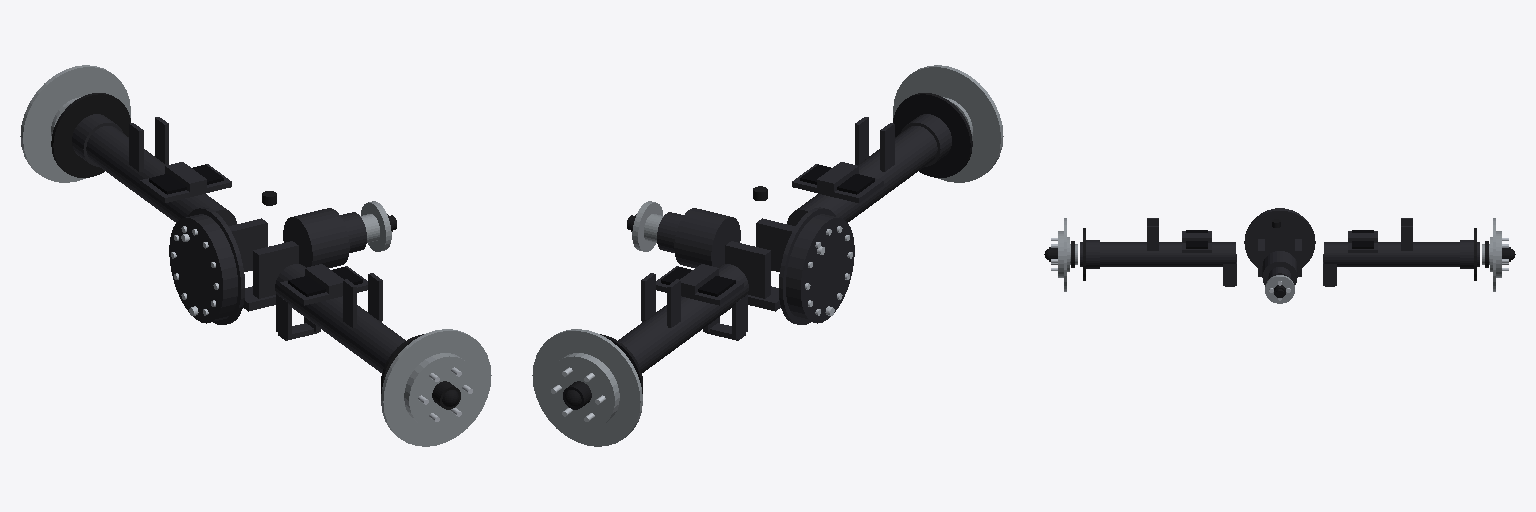
URDF robot description (car_axle_assembly):
<robot name="car_axle_assembly">
  <material name="cast_iron">
    <color rgba="0.2 0.2 0.22 1" />
    </material>
  <material name="machined_steel">
    <color rgba="0.58 0.6 0.62 1" />
    </material>
  <material name="zinc_hardware">
    <color rgba="0.73 0.75 0.78 1" />
    </material>
  <material name="rubber_isolator">
    <color rgba="0.09 0.09 0.1 1" />
    </material>
  <material name="black_oxide">
    <color rgba="0.14 0.14 0.15 1" />
    </material>
  <link name="axle_housing">
    <inertial>
      <mass value="92" />
      <inertia ixx="22.2333" ixy="0" ixz="0" iyy="3.51133" iyz="0" izz="23.5305" />
      </inertial>
    <visual>
      <geometry>
        <mesh filename="assets/meshes/differential_housing.obj" />
        </geometry>
      <material name="cast_iron">
        <color rgba="0.2 0.2 0.22 1" />
        </material>
      </visual>
    <visual>
      <origin xyz="0 -0.5 0" rpy="1.5708 0 0" />
      <geometry>
        <cylinder radius="0.05" length="0.64" />
        </geometry>
      <material name="cast_iron">
        <color rgba="0.2 0.2 0.22 1" />
        </material>
      </visual>
    <visual>
      <origin xyz="0 -0.77 0" rpy="1.5708 0 0" />
      <geometry>
        <cylinder radius="0.058" length="0.06" />
        </geometry>
      <material name="cast_iron">
        <color rgba="0.2 0.2 0.22 1" />
        </material>
      </visual>
    <visual>
      <origin xyz="0 -0.802 0" rpy="1.5708 0 0" />
      <geometry>
        <cylinder radius="0.11" length="0.01" />
        </geometry>
      <material name="black_oxide">
        <color rgba="0.14 0.14 0.15 1" />
        </material>
      </visual>
    <visual>
      <origin xyz="0 -0.34 0.057" rpy="0 0 0" />
      <geometry>
        <box size="0.19 0.12 0.014" />
        </geometry>
      <material name="cast_iron">
        <color rgba="0.2 0.2 0.22 1" />
        </material>
      </visual>
    <visual>
      <origin xyz="0 -0.34 0.068" rpy="0 0 0" />
      <geometry>
        <box size="0.16 0.09 0.008" />
        </geometry>
      <material name="rubber_isolator">
        <color rgba="0.09 0.09 0.1 1" />
        </material>
      </visual>
    <visual>
      <origin xyz="0 -0.34 0.074" rpy="0 0 0" />
      <geometry>
        <box size="0.05 0.12 0.025" />
        </geometry>
      <material name="cast_iron">
        <color rgba="0.2 0.2 0.22 1" />
        </material>
      </visual>
    <visual>
      <origin xyz="-0.036 -0.52 0.09" rpy="0 0 0" />
      <geometry>
        <box size="0.012 0.05 0.11" />
        </geometry>
      <material name="cast_iron">
        <color rgba="0.2 0.2 0.22 1" />
        </material>
      </visual>
    <visual>
      <origin xyz="0.036 -0.52 0.09" rpy="0 0 0" />
      <geometry>
        <box size="0.012 0.05 0.11" />
        </geometry>
      <material name="cast_iron">
        <color rgba="0.2 0.2 0.22 1" />
        </material>
      </visual>
    <visual>
      <origin xyz="-0.04 -0.205 -0.07" rpy="0 0 0" />
      <geometry>
        <box size="0.012 0.06 0.1" />
        </geometry>
      <material name="cast_iron">
        <color rgba="0.2 0.2 0.22 1" />
        </material>
      </visual>
    <visual>
      <origin xyz="0.04 -0.205 -0.07" rpy="0 0 0" />
      <geometry>
        <box size="0.012 0.06 0.1" />
        </geometry>
      <material name="cast_iron">
        <color rgba="0.2 0.2 0.22 1" />
        </material>
      </visual>
    <visual>
      <origin xyz="0 -0.205 -0.12" rpy="0 0 0" />
      <geometry>
        <box size="0.092 0.04 0.014" />
        </geometry>
      <material name="cast_iron">
        <color rgba="0.2 0.2 0.22 1" />
        </material>
      </visual>
    <visual>
      <origin xyz="0 0.5 0" rpy="1.5708 0 0" />
      <geometry>
        <cylinder radius="0.05" length="0.64" />
        </geometry>
      <material name="cast_iron">
        <color rgba="0.2 0.2 0.22 1" />
        </material>
      </visual>
    <visual>
      <origin xyz="0 0.77 0" rpy="1.5708 0 0" />
      <geometry>
        <cylinder radius="0.058" length="0.06" />
        </geometry>
      <material name="cast_iron">
        <color rgba="0.2 0.2 0.22 1" />
        </material>
      </visual>
    <visual>
      <origin xyz="0 0.802 0" rpy="1.5708 0 0" />
      <geometry>
        <cylinder radius="0.11" length="0.01" />
        </geometry>
      <material name="black_oxide">
        <color rgba="0.14 0.14 0.15 1" />
        </material>
      </visual>
    <visual>
      <origin xyz="0 0.34 0.057" rpy="0 0 0" />
      <geometry>
        <box size="0.19 0.12 0.014" />
        </geometry>
      <material name="cast_iron">
        <color rgba="0.2 0.2 0.22 1" />
        </material>
      </visual>
    <visual>
      <origin xyz="0 0.34 0.068" rpy="0 0 0" />
      <geometry>
        <box size="0.16 0.09 0.008" />
        </geometry>
      <material name="rubber_isolator">
        <color rgba="0.09 0.09 0.1 1" />
        </material>
      </visual>
    <visual>
      <origin xyz="0 0.34 0.074" rpy="0 0 0" />
      <geometry>
        <box size="0.05 0.12 0.025" />
        </geometry>
      <material name="cast_iron">
        <color rgba="0.2 0.2 0.22 1" />
        </material>
      </visual>
    <visual>
      <origin xyz="-0.036 0.52 0.09" rpy="0 0 0" />
      <geometry>
        <box size="0.012 0.05 0.11" />
        </geometry>
      <material name="cast_iron">
        <color rgba="0.2 0.2 0.22 1" />
        </material>
      </visual>
    <visual>
      <origin xyz="0.036 0.52 0.09" rpy="0 0 0" />
      <geometry>
        <box size="0.012 0.05 0.11" />
        </geometry>
      <material name="cast_iron">
        <color rgba="0.2 0.2 0.22 1" />
        </material>
      </visual>
    <visual>
      <origin xyz="-0.04 0.205 -0.07" rpy="0 0 0" />
      <geometry>
        <box size="0.012 0.06 0.1" />
        </geometry>
      <material name="cast_iron">
        <color rgba="0.2 0.2 0.22 1" />
        </material>
      </visual>
    <visual>
      <origin xyz="0.04 0.205 -0.07" rpy="0 0 0" />
      <geometry>
        <box size="0.012 0.06 0.1" />
        </geometry>
      <material name="cast_iron">
        <color rgba="0.2 0.2 0.22 1" />
        </material>
      </visual>
    <visual>
      <origin xyz="0 0.205 -0.12" rpy="0 0 0" />
      <geometry>
        <box size="0.092 0.04 0.014" />
        </geometry>
      <material name="cast_iron">
        <color rgba="0.2 0.2 0.22 1" />
        </material>
      </visual>
    <visual>
      <origin xyz="-0.145 0 0" rpy="0 1.5708 0" />
      <geometry>
        <cylinder radius="0.132" length="0.046" />
        </geometry>
      <material name="cast_iron">
        <color rgba="0.2 0.2 0.22 1" />
        </material>
      </visual>
    <visual>
      <origin xyz="-0.12 0 0" rpy="0 1.5708 0" />
      <geometry>
        <cylinder radius="0.146" length="0.012" />
        </geometry>
      <material name="cast_iron">
        <color rgba="0.2 0.2 0.22 1" />
        </material>
      </visual>
    <visual>
      <origin xyz="-0.168 0.104 0" rpy="0 1.5708 0" />
      <geometry>
        <cylinder radius="0.008" length="0.014" />
        </geometry>
      <material name="zinc_hardware">
        <color rgba="0.73 0.75 0.78 1" />
        </material>
      </visual>
    <visual>
      <origin xyz="-0.168 0.0900666 0.052" rpy="0 1.5708 0" />
      <geometry>
        <cylinder radius="0.008" length="0.014" />
        </geometry>
      <material name="zinc_hardware">
        <color rgba="0.73 0.75 0.78 1" />
        </material>
      </visual>
    <visual>
      <origin xyz="-0.168 0.052 0.0900666" rpy="0 1.5708 0" />
      <geometry>
        <cylinder radius="0.008" length="0.014" />
        </geometry>
      <material name="zinc_hardware">
        <color rgba="0.73 0.75 0.78 1" />
        </material>
      </visual>
    <visual>
      <origin xyz="-0.168 6.36816e-18 0.104" rpy="0 1.5708 0" />
      <geometry>
        <cylinder radius="0.008" length="0.014" />
        </geometry>
      <material name="zinc_hardware">
        <color rgba="0.73 0.75 0.78 1" />
        </material>
      </visual>
    <visual>
      <origin xyz="-0.168 -0.052 0.0900666" rpy="0 1.5708 0" />
      <geometry>
        <cylinder radius="0.008" length="0.014" />
        </geometry>
      <material name="zinc_hardware">
        <color rgba="0.73 0.75 0.78 1" />
        </material>
      </visual>
    <visual>
      <origin xyz="-0.168 -0.0900666 0.052" rpy="0 1.5708 0" />
      <geometry>
        <cylinder radius="0.008" length="0.014" />
        </geometry>
      <material name="zinc_hardware">
        <color rgba="0.73 0.75 0.78 1" />
        </material>
      </visual>
    <visual>
      <origin xyz="-0.168 -0.104 1.27363e-17" rpy="0 1.5708 0" />
      <geometry>
        <cylinder radius="0.008" length="0.014" />
        </geometry>
      <material name="zinc_hardware">
        <color rgba="0.73 0.75 0.78 1" />
        </material>
      </visual>
    <visual>
      <origin xyz="-0.168 -0.0900666 -0.052" rpy="0 1.5708 0" />
      <geometry>
        <cylinder radius="0.008" length="0.014" />
        </geometry>
      <material name="zinc_hardware">
        <color rgba="0.73 0.75 0.78 1" />
        </material>
      </visual>
    <visual>
      <origin xyz="-0.168 -0.052 -0.0900666" rpy="0 1.5708 0" />
      <geometry>
        <cylinder radius="0.008" length="0.014" />
        </geometry>
      <material name="zinc_hardware">
        <color rgba="0.73 0.75 0.78 1" />
        </material>
      </visual>
    <visual>
      <origin xyz="-0.168 -1.91045e-17 -0.104" rpy="0 1.5708 0" />
      <geometry>
        <cylinder radius="0.008" length="0.014" />
        </geometry>
      <material name="zinc_hardware">
        <color rgba="0.73 0.75 0.78 1" />
        </material>
      </visual>
    <visual>
      <origin xyz="-0.168 0.052 -0.0900666" rpy="0 1.5708 0" />
      <geometry>
        <cylinder radius="0.008" length="0.014" />
        </geometry>
      <material name="zinc_hardware">
        <color rgba="0.73 0.75 0.78 1" />
        </material>
      </visual>
    <visual>
      <origin xyz="-0.168 0.0900666 -0.052" rpy="0 1.5708 0" />
      <geometry>
        <cylinder radius="0.008" length="0.014" />
        </geometry>
      <material name="zinc_hardware">
        <color rgba="0.73 0.75 0.78 1" />
        </material>
      </visual>
    <visual>
      <origin xyz="0.17 0 0" rpy="0 1.5708 0" />
      <geometry>
        <cylinder radius="0.072" length="0.104" />
        </geometry>
      <material name="cast_iron">
        <color rgba="0.2 0.2 0.22 1" />
        </material>
      </visual>
    <visual>
      <origin xyz="0.245 0 0" rpy="0 1.5708 0" />
      <geometry>
        <cylinder radius="0.048" length="0.08" />
        </geometry>
      <material name="cast_iron">
        <color rgba="0.2 0.2 0.22 1" />
        </material>
      </visual>
    <visual>
      <origin xyz="0.012 -0.075 -0.01" rpy="0 0 0" />
      <geometry>
        <box size="0.112 0.03 0.118" />
        </geometry>
      <material name="cast_iron">
        <color rgba="0.2 0.2 0.22 1" />
        </material>
      </visual>
    <visual>
      <origin xyz="0.012 0.075 -0.01" rpy="0 0 0" />
      <geometry>
        <box size="0.112 0.03 0.118" />
        </geometry>
      <material name="cast_iron">
        <color rgba="0.2 0.2 0.22 1" />
        </material>
      </visual>
    <visual>
      <origin xyz="0.02 0 -0.112" rpy="0 0 0" />
      <geometry>
        <box size="0.128 0.08 0.022" />
        </geometry>
      <material name="cast_iron">
        <color rgba="0.2 0.2 0.22 1" />
        </material>
      </visual>
    <visual>
      <origin xyz="0.03 -0.015 0.154" rpy="0 0 0" />
      <geometry>
        <cylinder radius="0.018" length="0.024" />
        </geometry>
      <material name="black_oxide">
        <color rgba="0.14 0.14 0.15 1" />
        </material>
      </visual>
    <visual>
      <origin xyz="-0.172 0.042 0.072" rpy="0 1.5708 0" />
      <geometry>
        <cylinder radius="0.01" length="0.016" />
        </geometry>
      <material name="zinc_hardware">
        <color rgba="0.73 0.75 0.78 1" />
        </material>
      </visual>
    <visual>
      <origin xyz="-0.172 0 -0.108" rpy="0 1.5708 0" />
      <geometry>
        <cylinder radius="0.011" length="0.018" />
        </geometry>
      <material name="zinc_hardware">
        <color rgba="0.73 0.75 0.78 1" />
        </material>
      </visual>
    </link>
  <link name="left_hub">
    <inertial>
      <origin xyz="0 -0.072 0" rpy="0 0 0" />
      <mass value="14.5" />
      <inertia ixx="0.147417" ixy="0" ixz="0" iyy="0.247467" iyz="0" izz="0.147417" />
      </inertial>
    <visual>
      <origin xyz="0 -0.029 0" rpy="1.5708 0 0" />
      <geometry>
        <cylinder radius="0.042" length="0.058" />
        </geometry>
      <material name="machined_steel">
        <color rgba="0.58 0.6 0.62 1" />
        </material>
      </visual>
    <visual>
      <origin xyz="0 -0.022 0" rpy="1.5708 0 0" />
      <geometry>
        <cylinder radius="0.055" length="0.018" />
        </geometry>
      <material name="black_oxide">
        <color rgba="0.14 0.14 0.15 1" />
        </material>
      </visual>
    <visual>
      <origin xyz="0 -0.05 0" rpy="1.5708 0 0" />
      <geometry>
        <cylinder radius="0.152" length="0.012" />
        </geometry>
      <material name="machined_steel">
        <color rgba="0.58 0.6 0.62 1" />
        </material>
      </visual>
    <visual>
      <origin xyz="0 -0.05 0" rpy="1.5708 0 0" />
      <geometry>
        <cylinder radius="0.073" length="0.034" />
        </geometry>
      <material name="machined_steel">
        <color rgba="0.58 0.6 0.62 1" />
        </material>
      </visual>
    <visual>
      <origin xyz="0 -0.07 0" rpy="1.5708 0 0" />
      <geometry>
        <cylinder radius="0.095" length="0.024" />
        </geometry>
      <material name="machined_steel">
        <color rgba="0.58 0.6 0.62 1" />
        </material>
      </visual>
    <visual>
      <origin xyz="0 -0.1 0" rpy="1.5708 0 0" />
      <geometry>
        <cylinder radius="0.03" length="0.04" />
        </geometry>
      <material name="black_oxide">
        <color rgba="0.14 0.14 0.15 1" />
        </material>
      </visual>
    <visual>
      <origin xyz="0 -0.114 0" rpy="0 0 0" />
      <geometry>
        <sphere radius="0.024" />
        </geometry>
      <material name="black_oxide">
        <color rgba="0.14 0.14 0.15 1" />
        </material>
      </visual>
    <visual>
      <origin xyz="0.062 -0.095 0" rpy="1.5708 0 0" />
      <geometry>
        <cylinder radius="0.007" length="0.03" />
        </geometry>
      <material name="zinc_hardware">
        <color rgba="0.73 0.75 0.78 1" />
        </material>
      </visual>
    <visual>
      <origin xyz="0.031 -0.095 0.0536936" rpy="1.5708 0 0" />
      <geometry>
        <cylinder radius="0.007" length="0.03" />
        </geometry>
      <material name="zinc_hardware">
        <color rgba="0.73 0.75 0.78 1" />
        </material>
      </visual>
    <visual>
      <origin xyz="-0.031 -0.095 0.0536936" rpy="1.5708 0 0" />
      <geometry>
        <cylinder radius="0.007" length="0.03" />
        </geometry>
      <material name="zinc_hardware">
        <color rgba="0.73 0.75 0.78 1" />
        </material>
      </visual>
    <visual>
      <origin xyz="-0.062 -0.095 7.59281e-18" rpy="1.5708 0 0" />
      <geometry>
        <cylinder radius="0.007" length="0.03" />
        </geometry>
      <material name="zinc_hardware">
        <color rgba="0.73 0.75 0.78 1" />
        </material>
      </visual>
    <visual>
      <origin xyz="-0.031 -0.095 -0.0536936" rpy="1.5708 0 0" />
      <geometry>
        <cylinder radius="0.007" length="0.03" />
        </geometry>
      <material name="zinc_hardware">
        <color rgba="0.73 0.75 0.78 1" />
        </material>
      </visual>
    <visual>
      <origin xyz="0.031 -0.095 -0.0536936" rpy="1.5708 0 0" />
      <geometry>
        <cylinder radius="0.007" length="0.03" />
        </geometry>
      <material name="zinc_hardware">
        <color rgba="0.73 0.75 0.78 1" />
        </material>
      </visual>
    </link>
  <link name="right_hub">
    <inertial>
      <origin xyz="0 0.072 0" rpy="0 0 0" />
      <mass value="14.5" />
      <inertia ixx="0.147417" ixy="0" ixz="0" iyy="0.247467" iyz="0" izz="0.147417" />
      </inertial>
    <visual>
      <origin xyz="0 0.029 0" rpy="1.5708 0 0" />
      <geometry>
        <cylinder radius="0.042" length="0.058" />
        </geometry>
      <material name="machined_steel">
        <color rgba="0.58 0.6 0.62 1" />
        </material>
      </visual>
    <visual>
      <origin xyz="0 0.022 0" rpy="1.5708 0 0" />
      <geometry>
        <cylinder radius="0.055" length="0.018" />
        </geometry>
      <material name="black_oxide">
        <color rgba="0.14 0.14 0.15 1" />
        </material>
      </visual>
    <visual>
      <origin xyz="0 0.05 0" rpy="1.5708 0 0" />
      <geometry>
        <cylinder radius="0.152" length="0.012" />
        </geometry>
      <material name="machined_steel">
        <color rgba="0.58 0.6 0.62 1" />
        </material>
      </visual>
    <visual>
      <origin xyz="0 0.05 0" rpy="1.5708 0 0" />
      <geometry>
        <cylinder radius="0.073" length="0.034" />
        </geometry>
      <material name="machined_steel">
        <color rgba="0.58 0.6 0.62 1" />
        </material>
      </visual>
    <visual>
      <origin xyz="0 0.07 0" rpy="1.5708 0 0" />
      <geometry>
        <cylinder radius="0.095" length="0.024" />
        </geometry>
      <material name="machined_steel">
        <color rgba="0.58 0.6 0.62 1" />
        </material>
      </visual>
    <visual>
      <origin xyz="0 0.1 0" rpy="1.5708 0 0" />
      <geometry>
        <cylinder radius="0.03" length="0.04" />
        </geometry>
      <material name="black_oxide">
        <color rgba="0.14 0.14 0.15 1" />
        </material>
      </visual>
    <visual>
      <origin xyz="0 0.114 0" rpy="0 0 0" />
      <geometry>
        <sphere radius="0.024" />
        </geometry>
      <material name="black_oxide">
        <color rgba="0.14 0.14 0.15 1" />
        </material>
      </visual>
    <visual>
      <origin xyz="0.062 0.095 0" rpy="1.5708 0 0" />
      <geometry>
        <cylinder radius="0.007" length="0.03" />
        </geometry>
      <material name="zinc_hardware">
        <color rgba="0.73 0.75 0.78 1" />
        </material>
      </visual>
    <visual>
      <origin xyz="0.031 0.095 0.0536936" rpy="1.5708 0 0" />
      <geometry>
        <cylinder radius="0.007" length="0.03" />
        </geometry>
      <material name="zinc_hardware">
        <color rgba="0.73 0.75 0.78 1" />
        </material>
      </visual>
    <visual>
      <origin xyz="-0.031 0.095 0.0536936" rpy="1.5708 0 0" />
      <geometry>
        <cylinder radius="0.007" length="0.03" />
        </geometry>
      <material name="zinc_hardware">
        <color rgba="0.73 0.75 0.78 1" />
        </material>
      </visual>
    <visual>
      <origin xyz="-0.062 0.095 7.59281e-18" rpy="1.5708 0 0" />
      <geometry>
        <cylinder radius="0.007" length="0.03" />
        </geometry>
      <material name="zinc_hardware">
        <color rgba="0.73 0.75 0.78 1" />
        </material>
      </visual>
    <visual>
      <origin xyz="-0.031 0.095 -0.0536936" rpy="1.5708 0 0" />
      <geometry>
        <cylinder radius="0.007" length="0.03" />
        </geometry>
      <material name="zinc_hardware">
        <color rgba="0.73 0.75 0.78 1" />
        </material>
      </visual>
    <visual>
      <origin xyz="0.031 0.095 -0.0536936" rpy="1.5708 0 0" />
      <geometry>
        <cylinder radius="0.007" length="0.03" />
        </geometry>
      <material name="zinc_hardware">
        <color rgba="0.73 0.75 0.78 1" />
        </material>
      </visual>
    </link>
  <link name="pinion_flange">
    <inertial>
      <origin xyz="0.05 0 0" rpy="0 0 0" />
      <mass value="3.4" />
      <inertia ixx="0.0111067" ixy="0" ixz="0" iyy="0.00898167" iyz="0" izz="0.00898167" />
      </inertial>
    <visual>
      <origin xyz="0.021 0 0" rpy="0 1.5708 0" />
      <geometry>
        <cylinder radius="0.034" length="0.042" />
        </geometry>
      <material name="machined_steel">
        <color rgba="0.58 0.6 0.62 1" />
        </material>
      </visual>
    <visual>
      <origin xyz="0.046 0 0" rpy="0 1.5708 0" />
      <geometry>
        <cylinder radius="0.062" length="0.016" />
        </geometry>
      <material name="machined_steel">
        <color rgba="0.58 0.6 0.62 1" />
        </material>
      </visual>
    <visual>
      <origin xyz="0.066 0 0" rpy="0 1.5708 0" />
      <geometry>
        <cylinder radius="0.024" length="0.03" />
        </geometry>
      <material name="black_oxide">
        <color rgba="0.14 0.14 0.15 1" />
        </material>
      </visual>
    <visual>
      <origin xyz="0.086 0 0" rpy="0 1.5708 0" />
      <geometry>
        <cylinder radius="0.018" length="0.018" />
        </geometry>
      <material name="black_oxide">
        <color rgba="0.14 0.14 0.15 1" />
        </material>
      </visual>
    <visual>
      <origin xyz="0.052 0.034 0" rpy="0 1.5708 0" />
      <geometry>
        <cylinder radius="0.01" length="0.018" />
        </geometry>
      <material name="zinc_hardware">
        <color rgba="0.73 0.75 0.78 1" />
        </material>
      </visual>
    <visual>
      <origin xyz="0.052 -0.034 0" rpy="0 1.5708 0" />
      <geometry>
        <cylinder radius="0.01" length="0.018" />
        </geometry>
      <material name="zinc_hardware">
        <color rgba="0.73 0.75 0.78 1" />
        </material>
      </visual>
    <visual>
      <origin xyz="0.052 0 0.034" rpy="0 1.5708 0" />
      <geometry>
        <cylinder radius="0.01" length="0.018" />
        </geometry>
      <material name="zinc_hardware">
        <color rgba="0.73 0.75 0.78 1" />
        </material>
      </visual>
    <visual>
      <origin xyz="0.052 0 -0.034" rpy="0 1.5708 0" />
      <geometry>
        <cylinder radius="0.01" length="0.018" />
        </geometry>
      <material name="zinc_hardware">
        <color rgba="0.73 0.75 0.78 1" />
        </material>
      </visual>
    </link>
  <joint name="left_hub_spin" type="continuous">
    <origin xyz="0 -0.828 0" rpy="0 0 0" />
    <parent link="axle_housing" />
    <child link="left_hub" />
    <axis xyz="0 1 0" />
    <limit effort="1800" velocity="40" />
    </joint>
  <joint name="right_hub_spin" type="continuous">
    <origin xyz="0 0.828 0" rpy="0 0 0" />
    <parent link="axle_housing" />
    <child link="right_hub" />
    <axis xyz="0 1 0" />
    <limit effort="1800" velocity="40" />
    </joint>
  <joint name="pinion_spin" type="continuous">
    <origin xyz="0.292 0 0" rpy="0 0 0" />
    <parent link="axle_housing" />
    <child link="pinion_flange" />
    <axis xyz="1 0 0" />
    <limit effort="650" velocity="90" />
    </joint>
  </robot>

--- Render facts (derived) ---
3 views of the same robot in one strip: view 1: azimuth 30°, elevation 25°; view 2: azimuth 150°, elevation 25°; view 3: azimuth 270°, elevation 25° (orthographic).
Model car_axle_assembly with 4 links and 3 joints (3 continuous), rooted at axle_housing, posed all joints at 0.
Visible links, largest first — view 1: axle_housing, left_hub, right_hub, pinion_flange; view 2: axle_housing, right_hub, left_hub, pinion_flange; view 3: axle_housing, left_hub, right_hub, pinion_flange.
Boxes of the visible links, x1,y1,x2,y2 form: axle_housing: (51, 93, 423, 393); left_hub: (381, 329, 491, 446); right_hub: (20, 65, 130, 182); pinion_flange: (360, 201, 396, 251); axle_housing: (600, 93, 972, 393); right_hub: (532, 329, 642, 446); left_hub: (893, 65, 1003, 182); pinion_flange: (627, 201, 663, 251); axle_housing: (1080, 208, 1479, 286); left_hub: (1044, 218, 1077, 291); right_hub: (1482, 218, 1515, 291); pinion_flange: (1265, 275, 1294, 303).
Bounding box of the posed robot: 0.568 × 1.93 × 0.318 m (x, y, z).
Meshes: 1 distinct files referenced, 0 mesh visuals loaded (none loaded); not drawn: 1 (reference not matched to a file when rendering).
